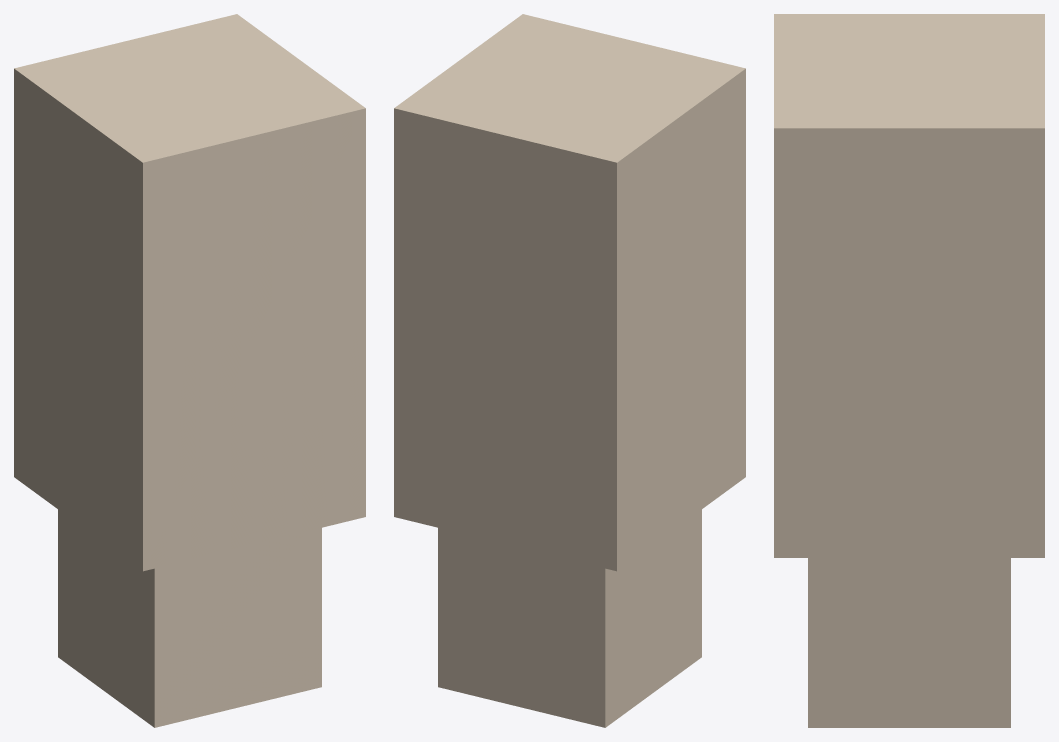
Rendered from plant.glb.
3 renders of one model, left to right at view 1: azimuth 30°, elevation 25°; view 2: azimuth 150°, elevation 25°; view 3: azimuth 270°, elevation 25°, orthographic. The views are drawn at different scales.
Size of the model in its own units: 0.4 by 1 by 0.4.
